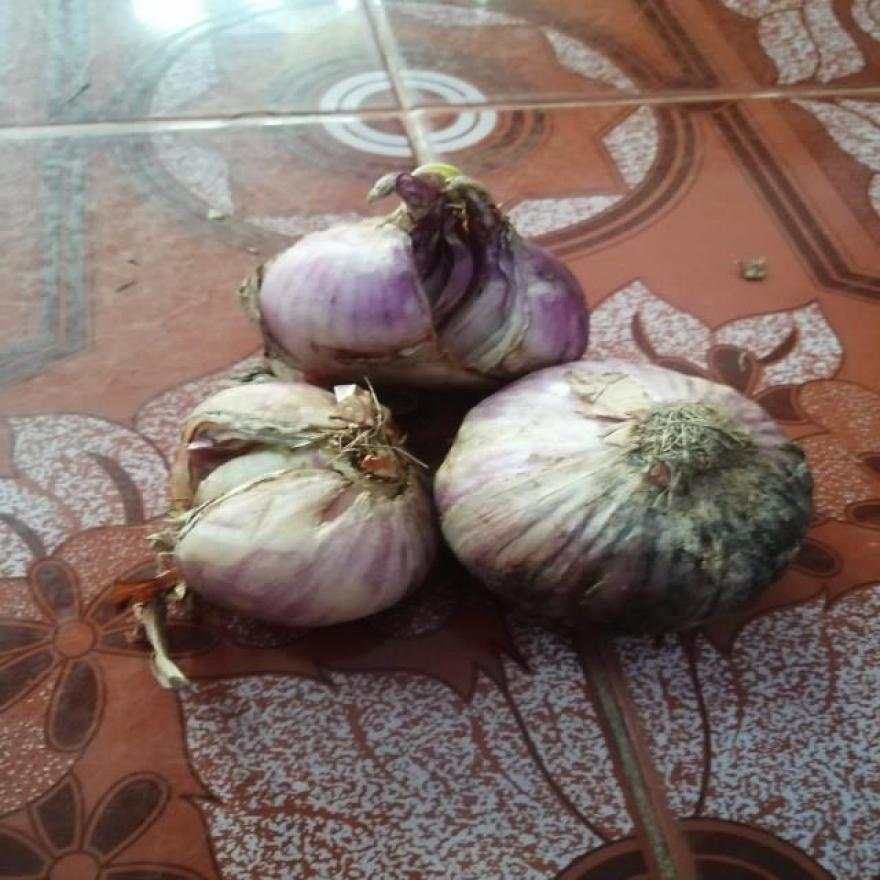Rotten: (650, 463, 794, 598), (173, 429, 337, 507), (430, 250, 504, 348)
Sprouted: (382, 175, 496, 227)
